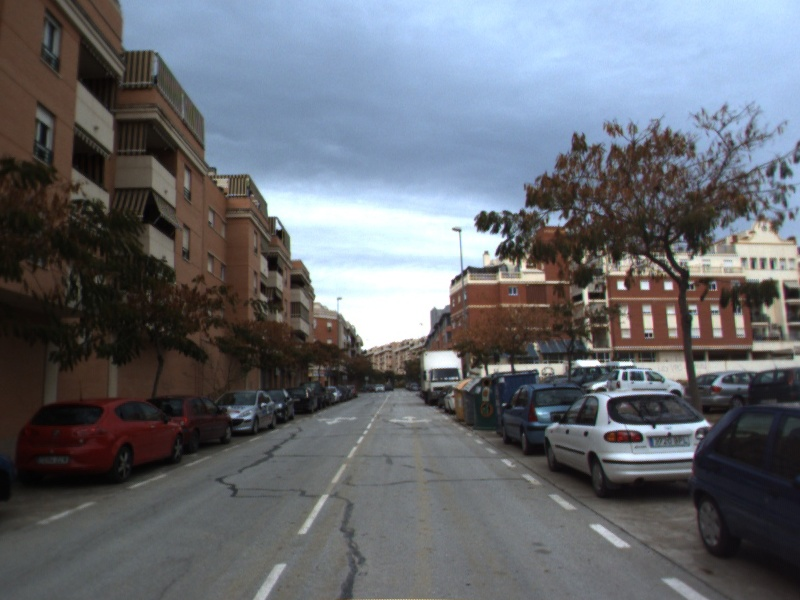STRAIGHT_LEFT_RIGHT: (387, 413, 435, 425)
